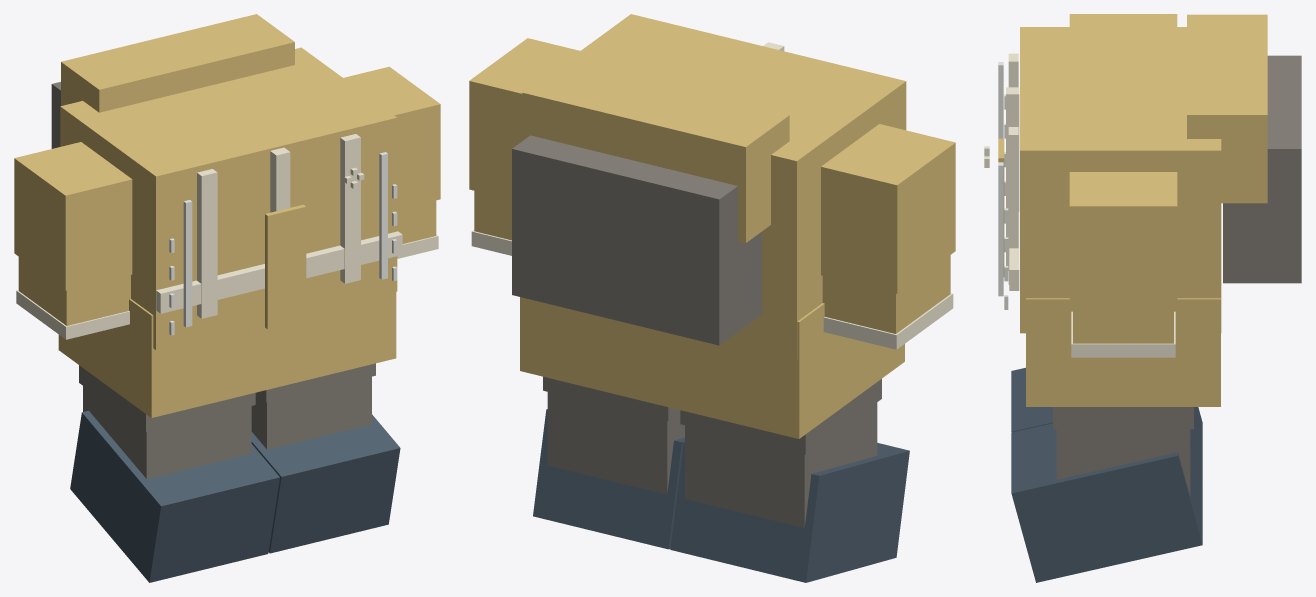
The model's file is raincoat-amber.glb.
3 views of the same model, side by side, from view 1: azimuth 30°, elevation 25°; view 2: azimuth 150°, elevation 25°; view 3: azimuth 270°, elevation 25° (orthographic). The views are drawn at different scales.
Visible parts, largest first — view 1: jacket, coat-tails, shoe-Right, upper-sleeve-Right, rain-hood, shoe-Left, lower-trouser-Right, upper-sleeve-Left, lower-trouser-Left, design-raincoat-storm-flap, lower-sleeve-Right, reflective-band (+11 smaller); view 2: backpack, jacket, coat-tails, rain-hood, upper-sleeve-Right, shoe-Right, lower-trouser-Right, lower-trouser-Left, shoe-Left, upper-sleeve-Left, lower-sleeve-Right, trouser-Right (+4 smaller); view 3: jacket, shoe-Left, coat-tails, upper-sleeve-Left, rain-hood, backpack, lower-trouser-Left, lower-sleeve-Left, trouser-Left, shoe-Right, cuff-Left, upper-sleeve-Right (+5 smaller).
Part boxes in pixels (left/top/right/bottom): jacket: left=60, top=47, right=397, bottom=350; coat-tails: left=58, top=292, right=396, bottom=417; shoe-Right: left=70, top=410, right=279, bottom=582; upper-sleeve-Right: left=14, top=142, right=132, bottom=290; rain-hood: left=61, top=14, right=294, bottom=112; shoe-Left: left=251, top=414, right=400, bottom=553; lower-trouser-Right: left=83, top=386, right=251, bottom=478; upper-sleeve-Left: left=343, top=66, right=440, bottom=209; lower-trouser-Left: left=251, top=376, right=371, bottom=449; design-raincoat-storm-flap: left=265, top=204, right=306, bottom=329; lower-sleeve-Right: left=18, top=257, right=130, bottom=325; reflective-band: left=156, top=231, right=402, bottom=313; backpack: left=512, top=135, right=761, bottom=345; jacket: left=521, top=14, right=906, bottom=359; coat-tails: left=520, top=297, right=904, bottom=438; rain-hood: left=522, top=60, right=789, bottom=242; upper-sleeve-Right: left=821, top=124, right=955, bottom=293; shoe-Right: left=670, top=442, right=909, bottom=582; lower-trouser-Right: left=685, top=402, right=877, bottom=527; lower-trouser-Left: left=547, top=392, right=684, bottom=494; shoe-Left: left=533, top=409, right=684, bottom=549; upper-sleeve-Left: left=469, top=38, right=579, bottom=199; lower-sleeve-Right: left=822, top=255, right=950, bottom=333; trouser-Right: left=680, top=379, right=881, bottom=454; jacket: left=1020, top=27, right=1221, bottom=333; shoe-Left: left=1011, top=423, right=1202, bottom=582; coat-tails: left=1026, top=298, right=1220, bottom=406; upper-sleeve-Left: left=1069, top=172, right=1177, bottom=305; rain-hood: left=1187, top=14, right=1267, bottom=203; backpack: left=1223, top=55, right=1301, bottom=283; lower-trouser-Left: left=1056, top=429, right=1190, bottom=495; lower-sleeve-Left: left=1073, top=306, right=1173, bottom=343; trouser-Left: left=1053, top=407, right=1193, bottom=429; shoe-Right: left=1011, top=367, right=1202, bottom=483; cuff-Left: left=1071, top=311, right=1175, bottom=357; upper-sleeve-Right: left=1069, top=14, right=1177, bottom=26.
Bounding box in the file's own units: 1.07 × 1.19 × 0.748.
